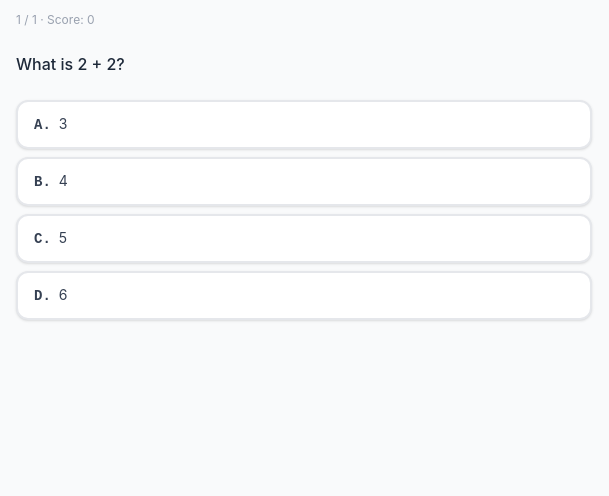
Test: QuizPanel › shows explanation after any answer
The image size is (609, 496).
Click the button "A.3" at (38, 125), box x1=16 y1=100 x2=592 y2=149
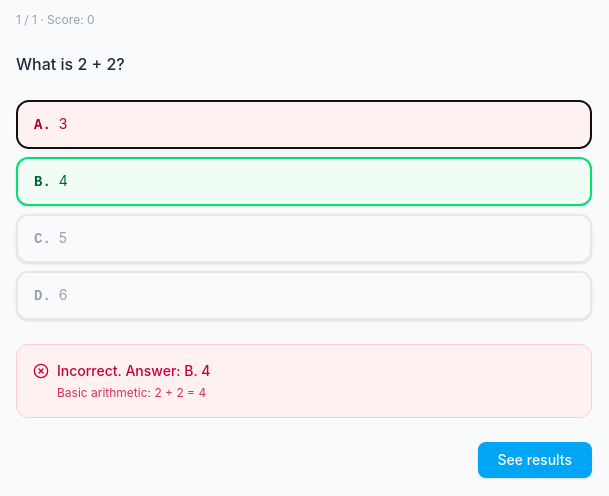
Result: the text "Basic arithmetic: 2 + 2 = 4" is shown at x1=57 y1=385 x2=210 y2=401
